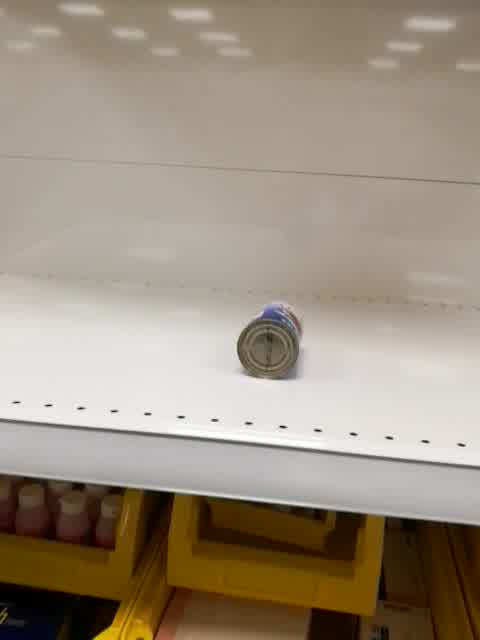sardine: (235, 300, 303, 381)
